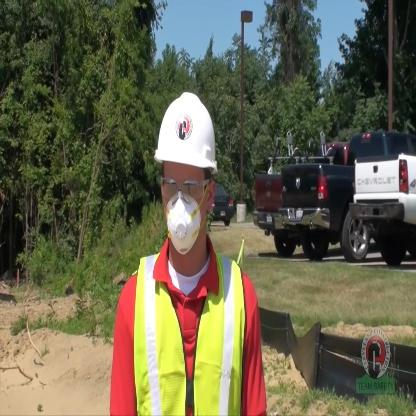helmet: (154, 90, 221, 270)
